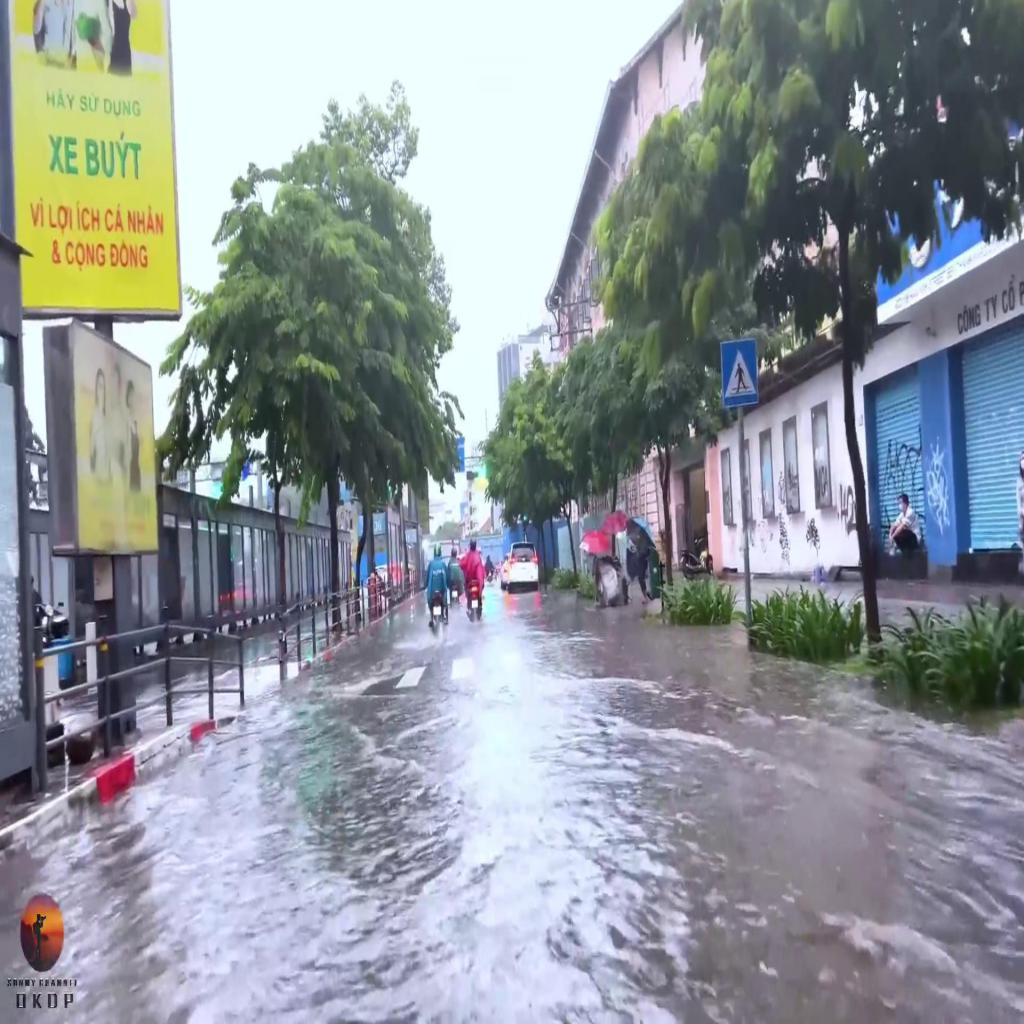duong_nguoi_di_bo_sang_ngang: (720, 340, 758, 407)
